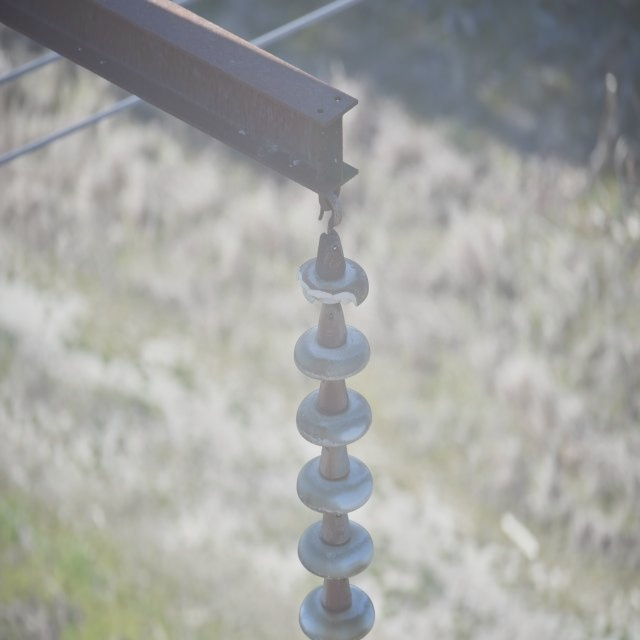broken: (294, 260, 363, 312)
insulator: (292, 258, 376, 638)
